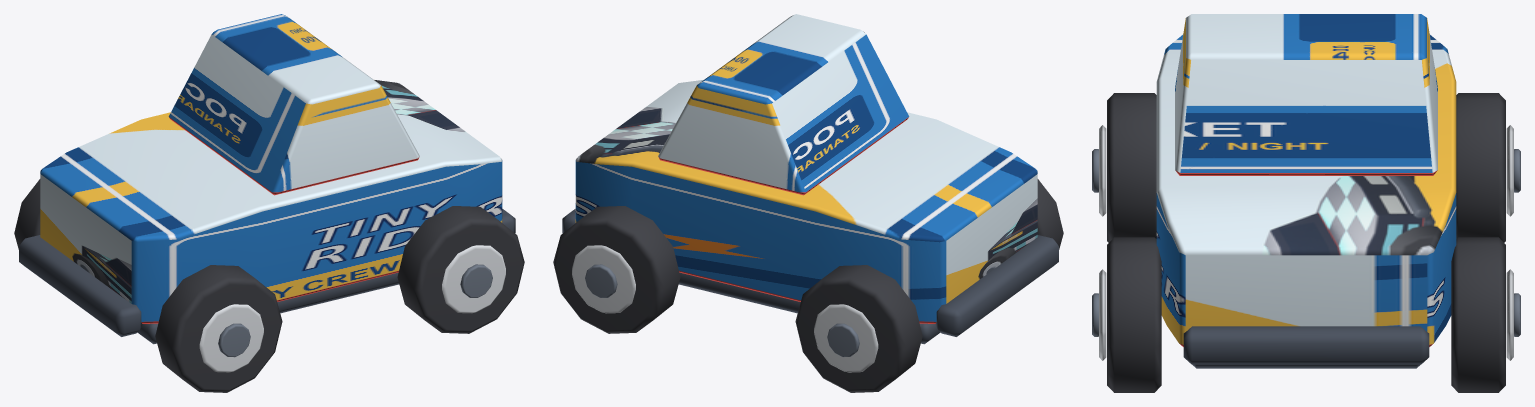
The picture shows the model from 3 angles, left to right: view 1: azimuth 30°, elevation 25°; view 2: azimuth 150°, elevation 25°; view 3: azimuth 270°, elevation 25°; orthographic projection. The views are drawn at different scales.
Parts seen in each view (by area): view 1: CC-01_connected_shell, CC-01_cabin, Tire.002, Tire, front bumper, Rim, Rim.002, underbody, Tire.001, Hub, Hub.002; view 2: CC-01_connected_shell, CC-01_cabin, Tire.003, Tire.001, front bumper, Rim.001, Rim.003, underbody, Tire, Hub.001, Hub.003; view 3: CC-01_connected_shell, CC-01_cabin, rear bumper, Tire.002, Tire.003, Tire, Tire.001, underbody, Rim, Rim.001, Rim.002, Rim.003.
Part boxes in pixels (x1,y1,x2,y2): CC-01_connected_shell: (40,80,502,323); CC-01_cabin: (168,14,419,195); Tire.002: (397,206,524,333); Tire: (155,265,282,392); front bumper: (19,235,142,336); Rim: (199,304,263,372); Rim.002: (442,245,505,313); underbody: (137,272,398,344); Tire.001: (14,179,40,249); Hub: (218,323,250,357); Hub.002: (460,264,492,297); CC-01_connected_shell: (575,80,1037,323); CC-01_cabin: (658,14,909,195); Tire.003: (553,206,680,333); Tire.001: (795,265,922,392); front bumper: (935,235,1058,336); Rim.001: (814,304,878,372); Rim.003: (572,245,635,313); underbody: (679,272,940,344); Tire: (1037,179,1063,249); Hub.001: (827,323,859,357); Hub.003: (585,264,617,297); CC-01_connected_shell: (1156,34,1456,346); CC-01_cabin: (1175,14,1437,175); rear bumper: (1183,326,1429,364); Tire.002: (1107,237,1161,392); Tire.003: (1451,237,1505,392); Tire: (1107,93,1156,242); Tire.001: (1456,93,1505,242); underbody: (1192,364,1420,368); Rim: (1099,125,1106,216); Rim.001: (1506,125,1513,216); Rim.002: (1099,269,1106,360); Rim.003: (1506,269,1513,360).
Bounding box in the file's own units: 268 × 155 × 203.
